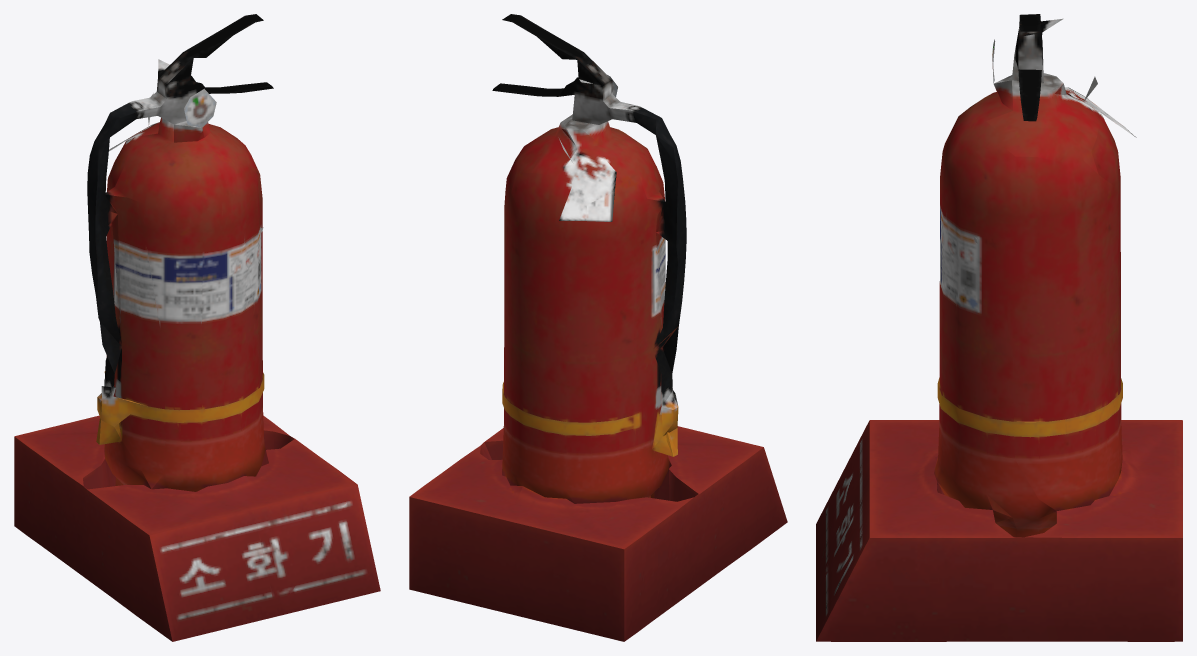
The model's file is extinguisher.glb.
3 views of the same model, side by side, from view 1: azimuth 30°, elevation 25°; view 2: azimuth 150°, elevation 25°; view 3: azimuth 270°, elevation 25° (orthographic). The views are drawn at different scales.
Parts seen in each view (by area): view 1: mesh; view 2: mesh; view 3: mesh.
Boxes of the visible parts, x1=… form: mesh: x1=14, y1=14, x2=380, y2=641; mesh: x1=409, y1=14, x2=787, y2=641; mesh: x1=816, y1=14, x2=1182, y2=641.
Size of the model in its own units: 0.2806 by 0.6593 by 0.3683.
1 material, 1 textured.
